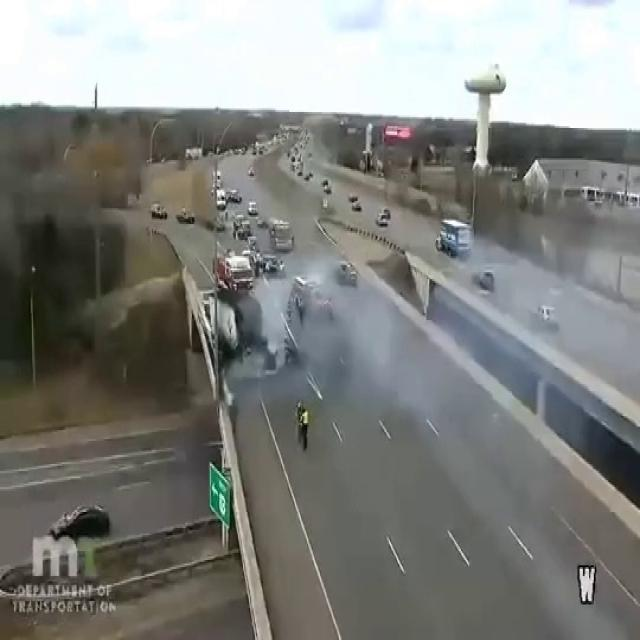Smoke: (0, 56, 145, 366), (249, 221, 396, 401)
